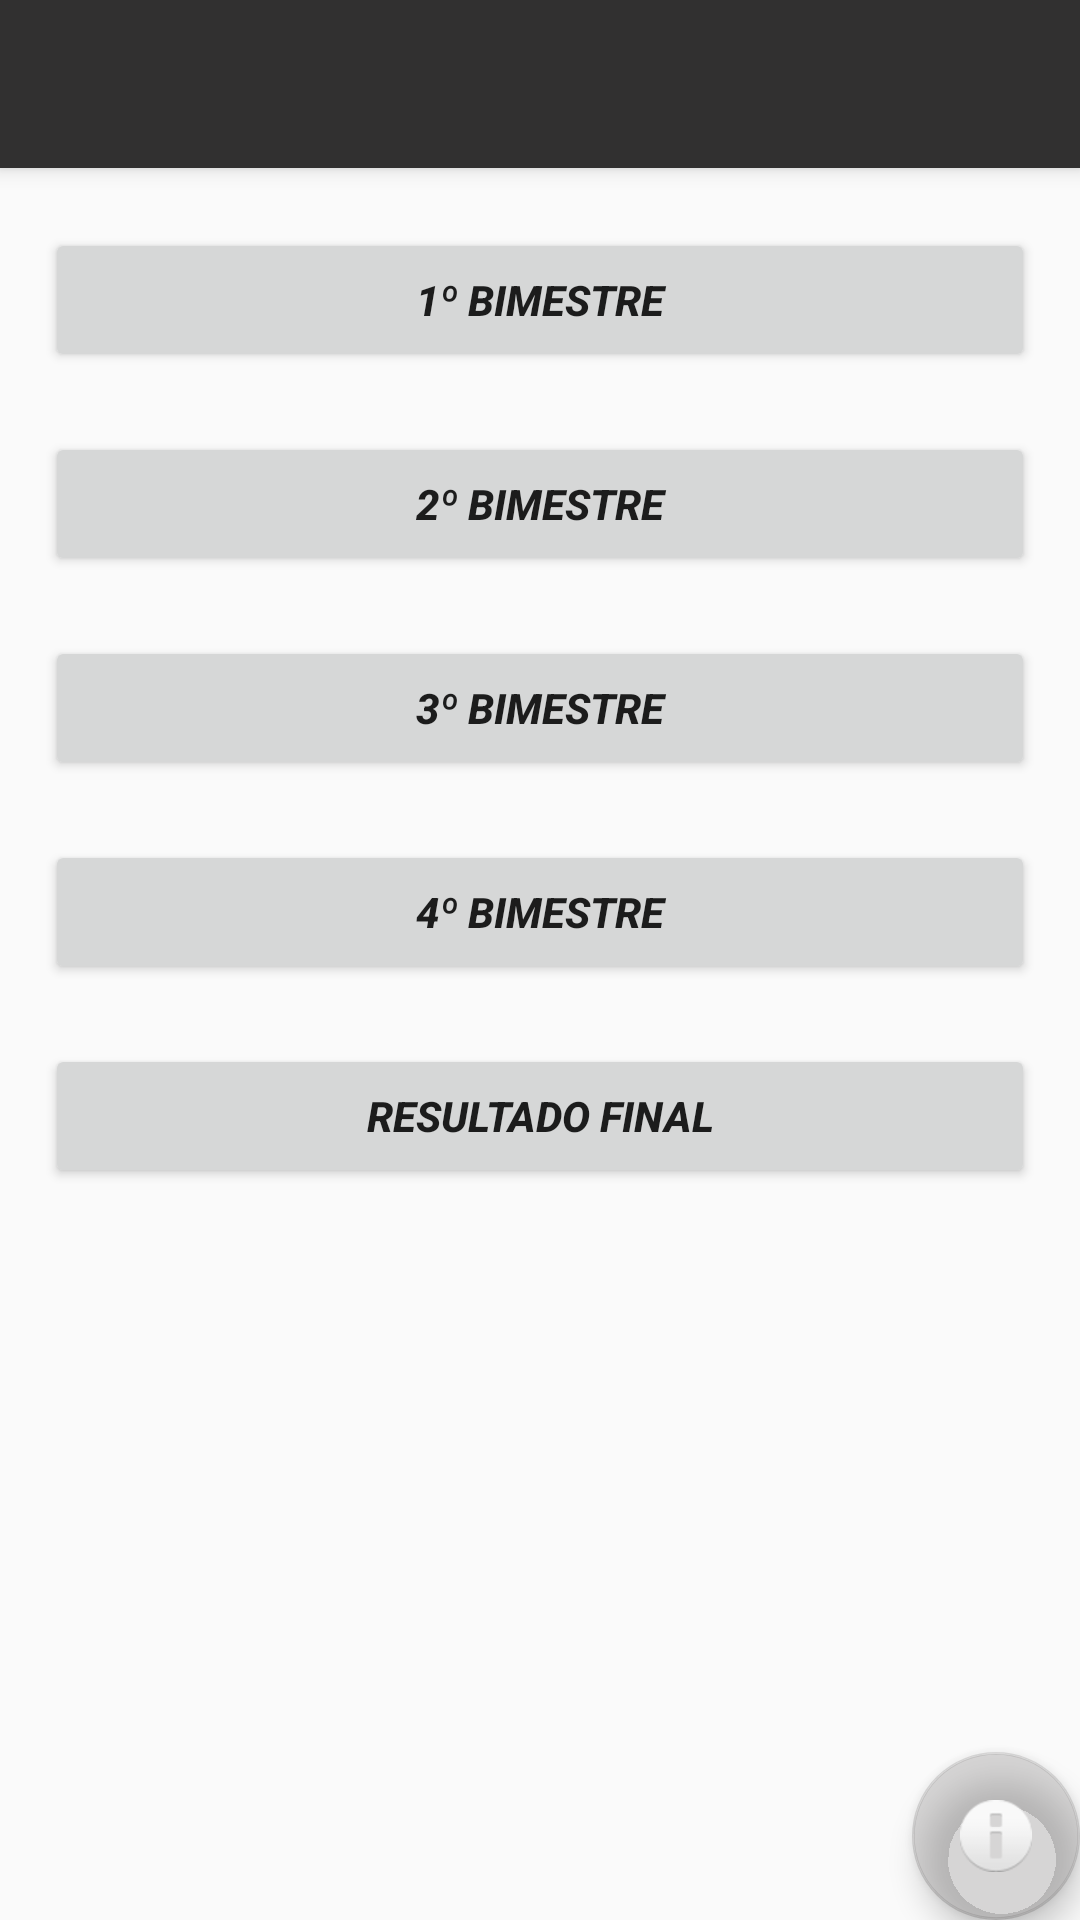

Named icons in this screenshot (1080 x 1920) and their centers, [x,y]:
info: [996,1836]
